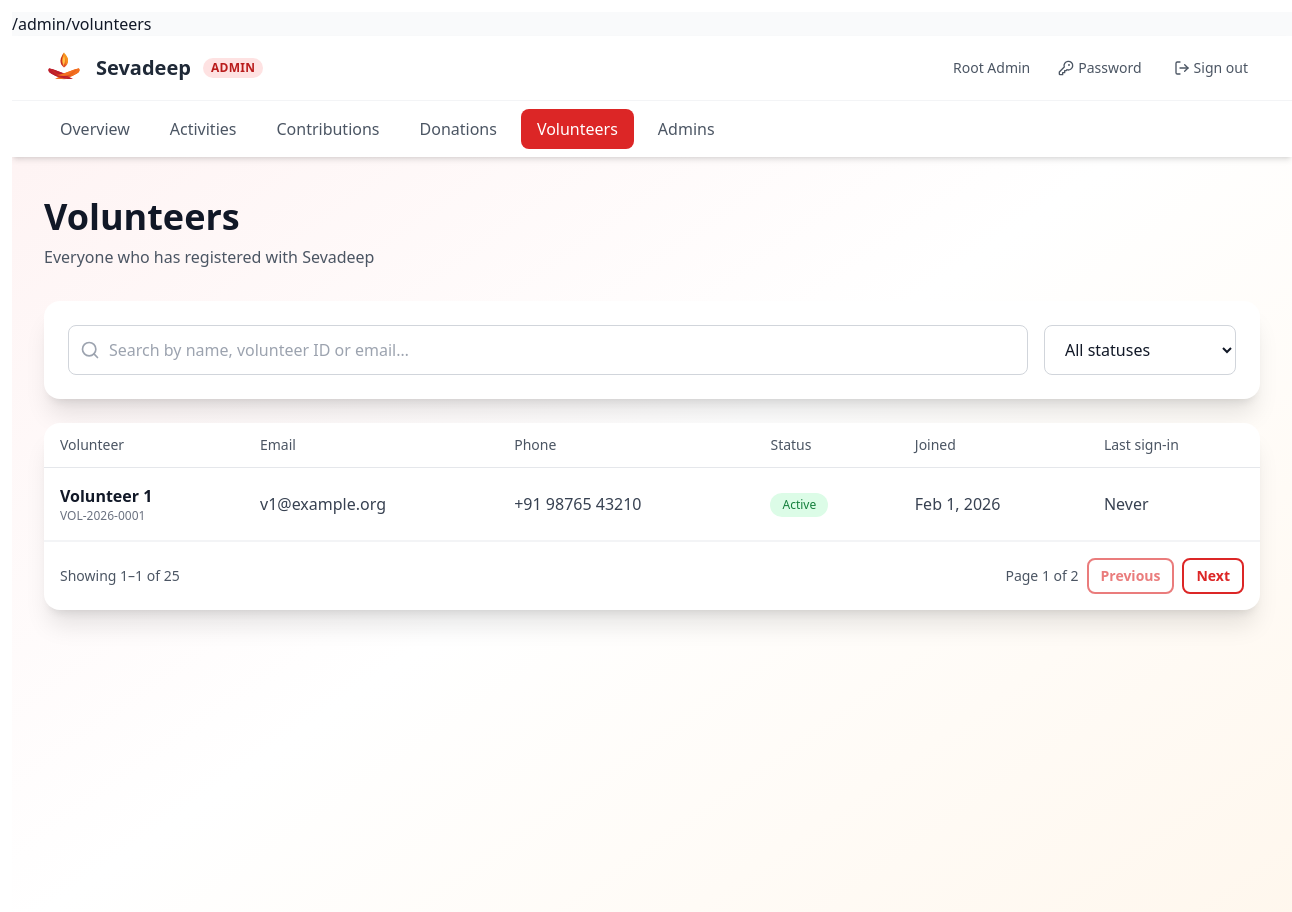
Test case: Volunteers list › paginates
expect the link "Volunteer 1" is shown: met, box [60,485,152,507]
expect the text "Page 1 of 2" is shown: met, box [1005,566,1078,586]
Click the button "Next" at (1213, 576), box [1182,558,1244,594]
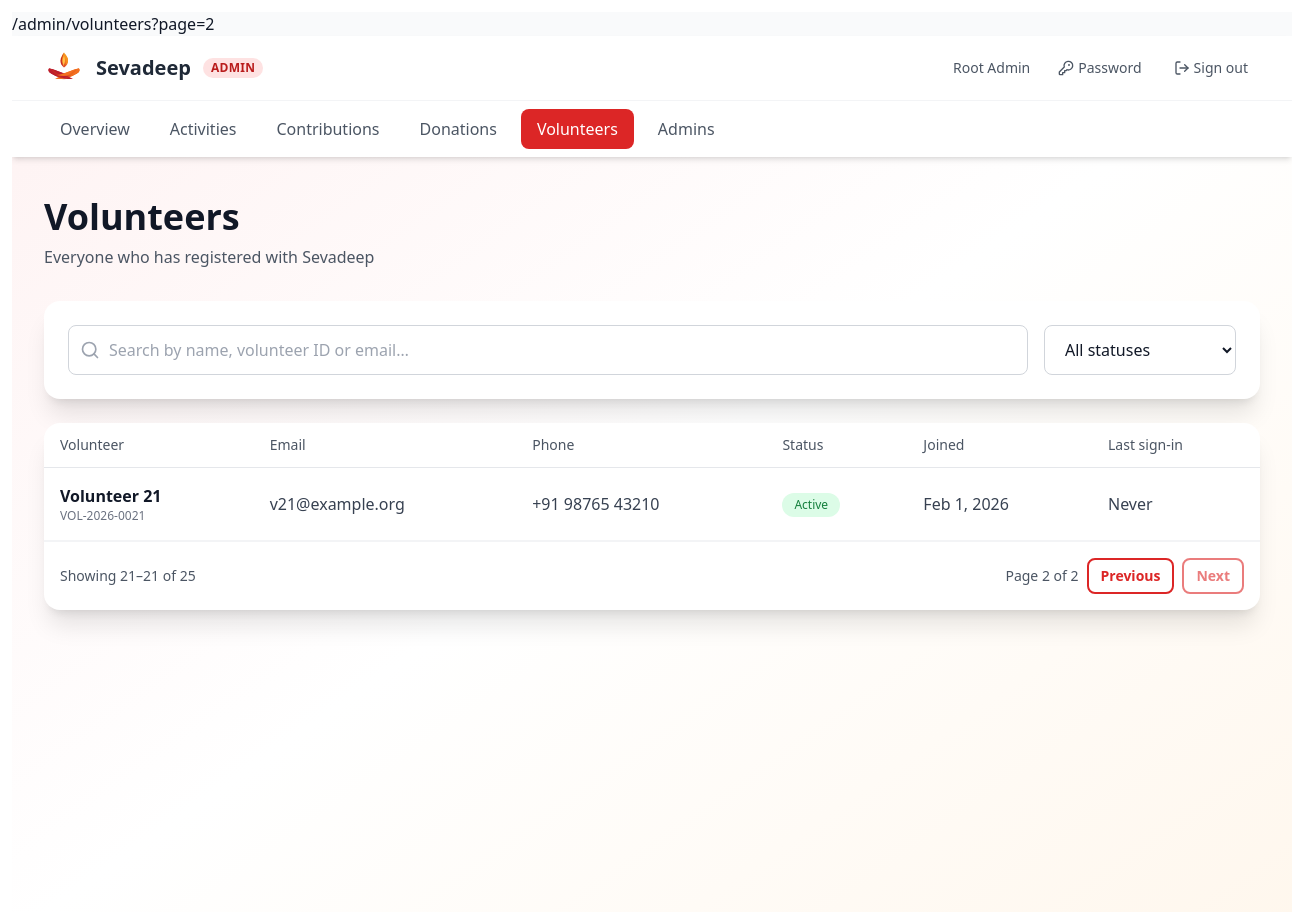
expect the link "Volunteer 21" is shown: met, box [60,485,162,507]
expect the text with test id "location" reads "/admin/volunteers?page=2": met, box [12,13,214,35]
expect the text "Showing 21–21 of 25" is shown: met, box [60,566,196,586]
Click the button "Previous" at (1130, 576), box [1086,558,1174,594]
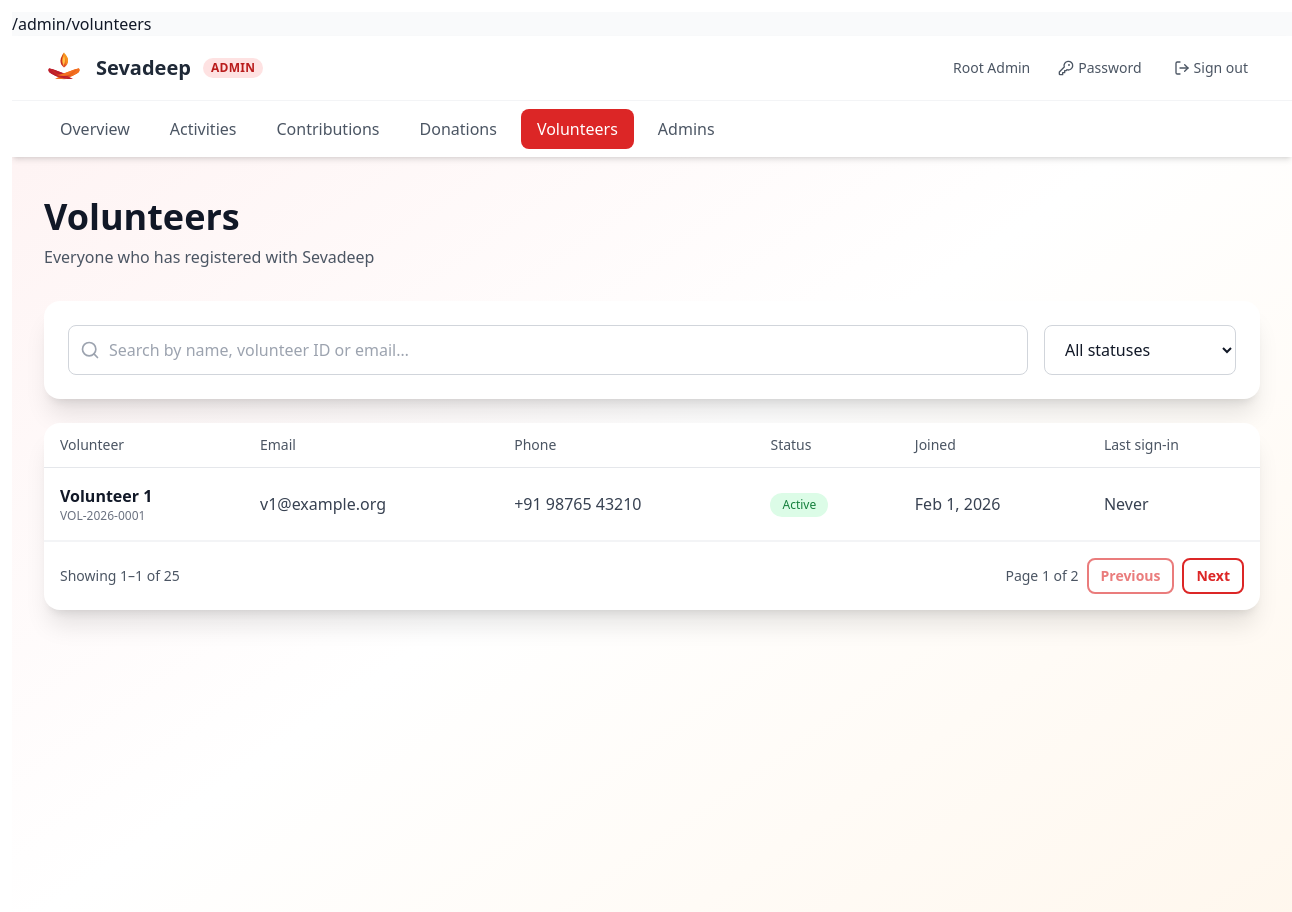
expect the text with test id "location" reads "/admin/volunteers": met, box [12,13,152,35]
expect the link "Volunteer 1" is shown: met, box [60,485,152,507]
